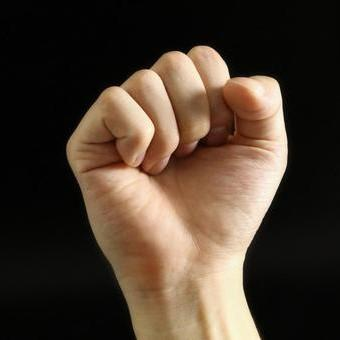gu-: (64, 43, 291, 263)
